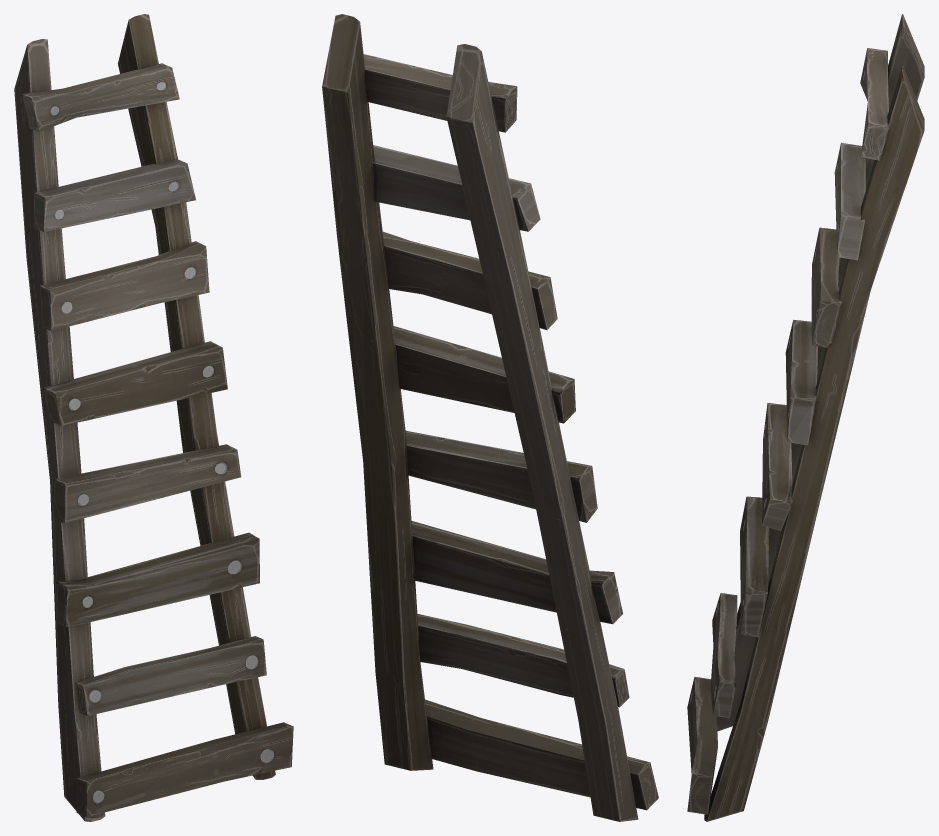
File: ladder.fbx
3 views of the same model, side by side, from view 1: azimuth 30°, elevation 25°; view 2: azimuth 150°, elevation 25°; view 3: azimuth 270°, elevation 25° (orthographic). The views are drawn at different scales.
Visible parts, largest first — view 1: Ladder; view 2: Ladder; view 3: Ladder.
Boxes of the visible parts, box(x1,y1,x2,y2) form: Ladder: box(14, 14, 293, 821); Ladder: box(322, 14, 658, 821); Ladder: box(687, 14, 924, 821).
Bounding box in the file's own units: 76.99 × 247 × 72.56.
Materials: 1 (1 with a texture image).
